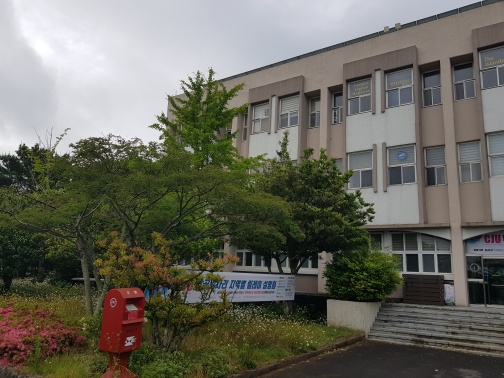Main Building of University: (170, 57, 504, 347)
